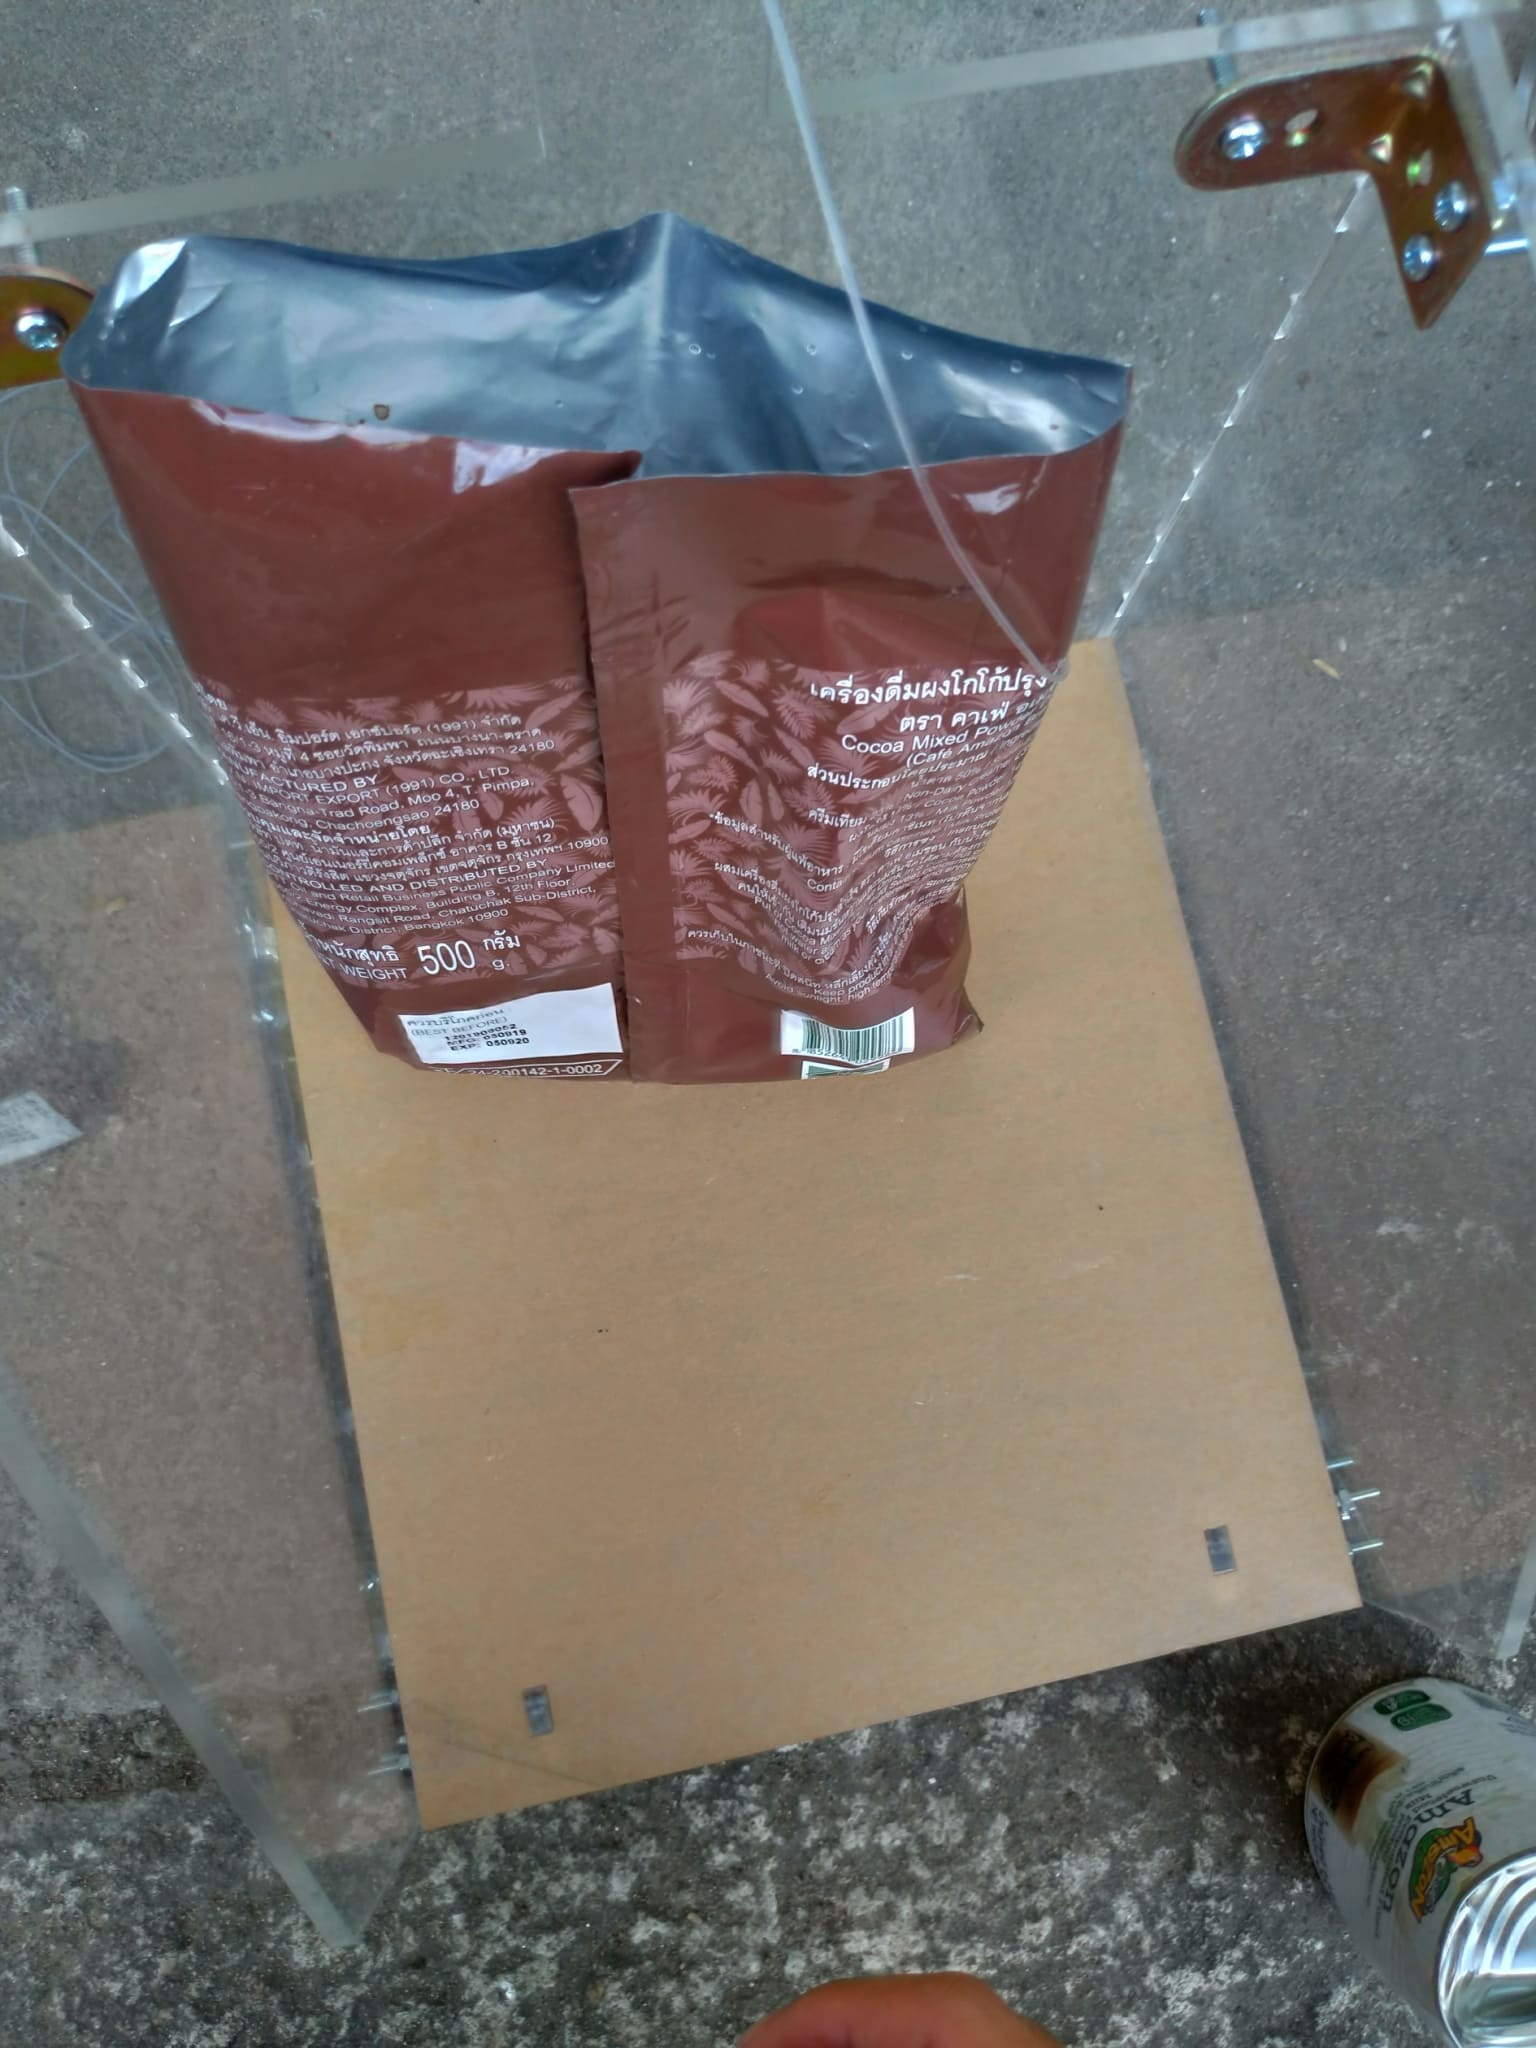AlCan: (1313, 1671, 1536, 2040)
Others: (60, 223, 1125, 1098)
